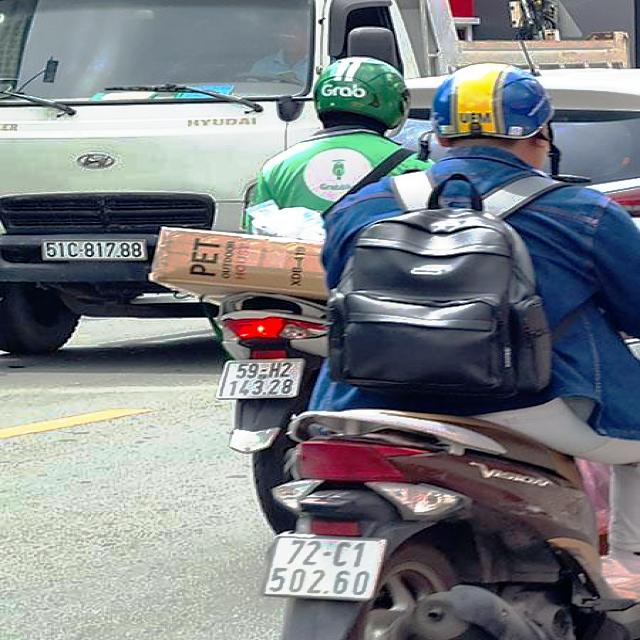license_plate: (264, 537, 387, 606), (220, 358, 307, 398), (42, 236, 147, 264)
